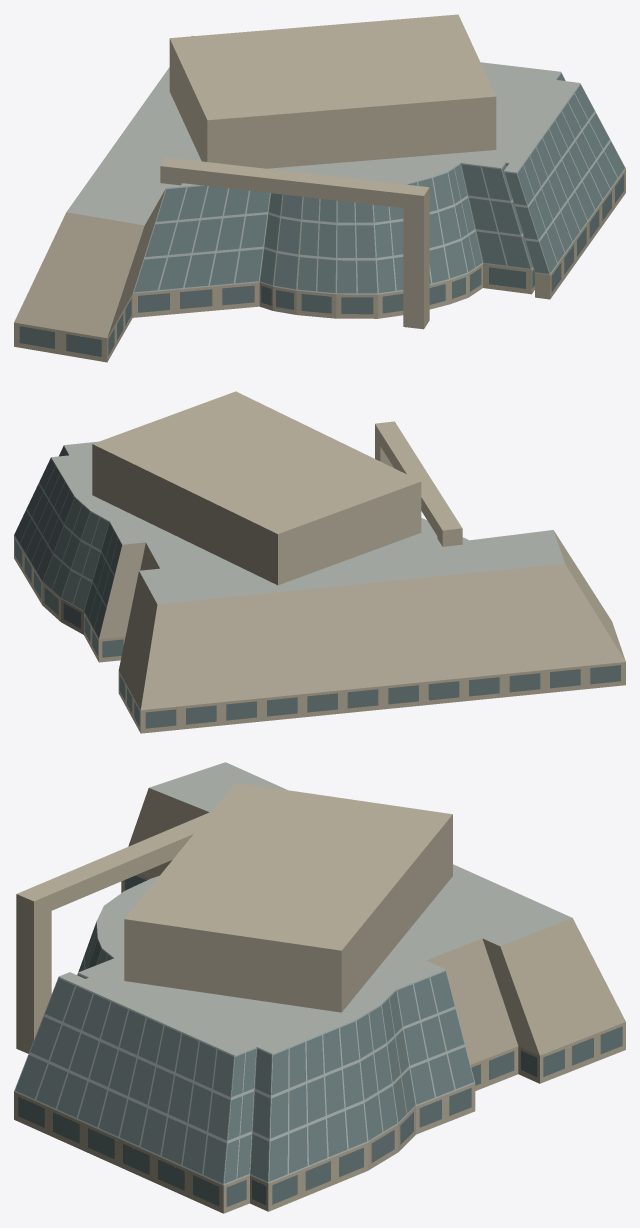
File: meyerson-symphony-center-far.glb
The picture shows the model from 3 angles, top to bottom: view 1: azimuth 30°, elevation 25°; view 2: azimuth 150°, elevation 25°; view 3: azimuth 270°, elevation 25°; orthographic projection. The views are drawn at different scales.
Parts seen in each view (by area): view 1: meyerson-symphony-center-0-stone, meyerson-symphony-center-0-glass, meyerson-symphony-center-0-roof, meyerson-symphony-center-0-metal; view 2: meyerson-symphony-center-0-stone, meyerson-symphony-center-0-roof, meyerson-symphony-center-0-glass, meyerson-symphony-center-0-metal; view 3: meyerson-symphony-center-0-stone, meyerson-symphony-center-0-glass, meyerson-symphony-center-0-roof, meyerson-symphony-center-0-metal.
Part boxes in pixels (x1=…): meyerson-symphony-center-0-stone: x1=14, y1=14, x2=625, y2=362; meyerson-symphony-center-0-glass: x1=19, y1=73, x2=624, y2=356; meyerson-symphony-center-0-roof: x1=66, y1=36, x2=579, y2=225; meyerson-symphony-center-0-metal: x1=133, y1=72, x2=625, y2=294; meyerson-symphony-center-0-stone: x1=14, y1=391, x2=625, y2=733; meyerson-symphony-center-0-roof: x1=51, y1=441, x2=564, y2=604; meyerson-symphony-center-0-glass: x1=14, y1=446, x2=620, y2=728; meyerson-symphony-center-0-metal: x1=14, y1=445, x2=122, y2=638; meyerson-symphony-center-0-stone: x1=14, y1=782, x2=625, y2=1213; meyerson-symphony-center-0-glass: x1=15, y1=875, x2=622, y2=1206; meyerson-symphony-center-0-roof: x1=59, y1=762, x2=572, y2=1055; meyerson-symphony-center-0-metal: x1=14, y1=921, x2=474, y2=1185.
Size of the model in its own units: 133 by 35 by 98.55.
